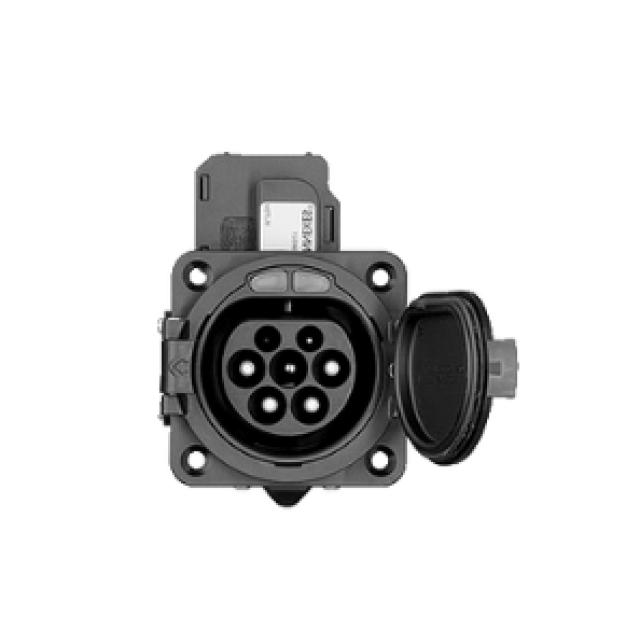Type 2: (164, 294, 390, 478)
